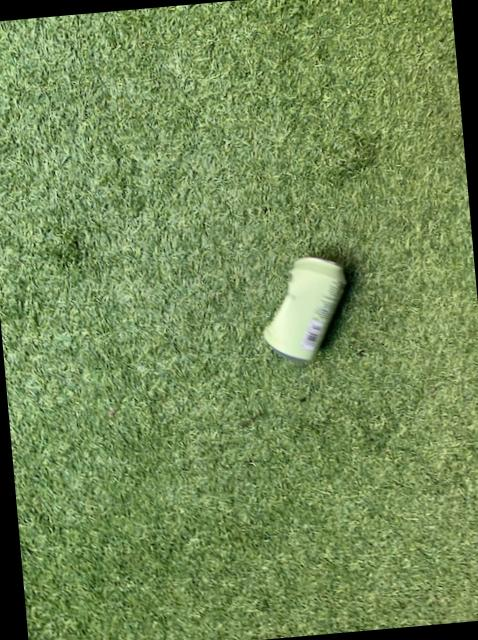metal: (261, 258, 343, 362)
